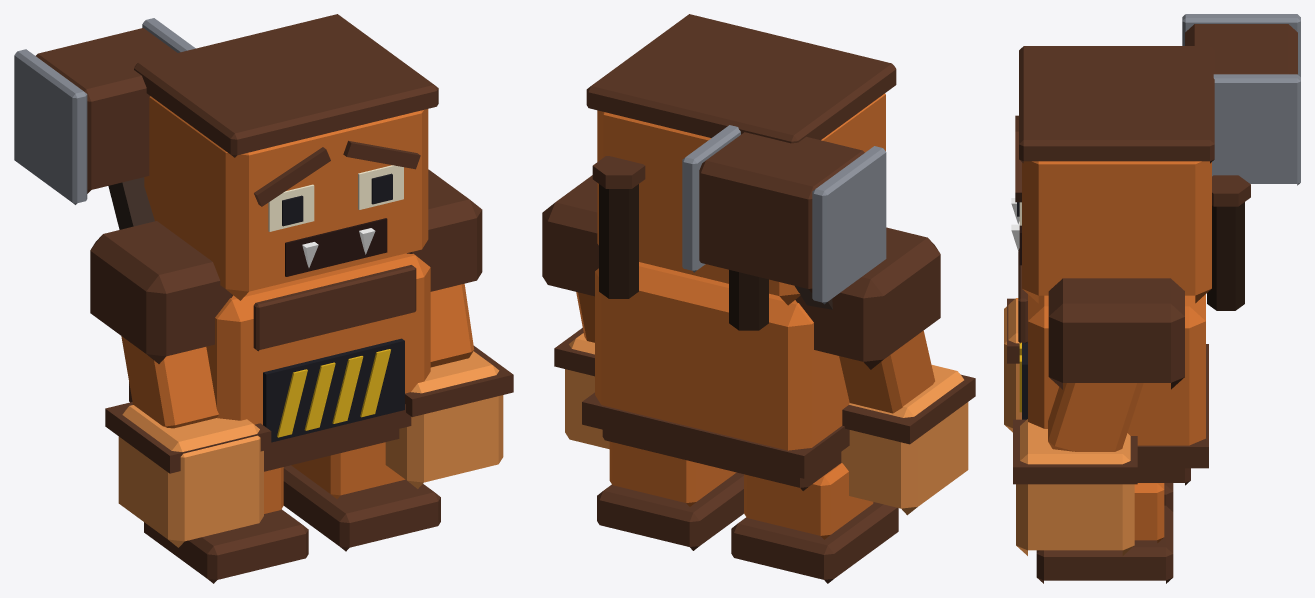
File: miniboss_crusher.glb
3 views of the same model, side by side, from view 1: azimuth 30°, elevation 25°; view 2: azimuth 150°, elevation 25°; view 3: azimuth 270°, elevation 25° (orthographic). The views are drawn at different scales.
Visible parts, largest first — view 1: miniboss_crusher_mesh; view 2: miniboss_crusher_mesh; view 3: miniboss_crusher_mesh.
Boxes of the visible parts, x1,y1,x2,y2 form: miniboss_crusher_mesh: [14, 14, 513, 583]; miniboss_crusher_mesh: [542, 14, 975, 583]; miniboss_crusher_mesh: [1004, 14, 1300, 583].
Bounding box in the file's own units: 3.39 × 4.2 × 2.57.
1 material, 1 textured.
